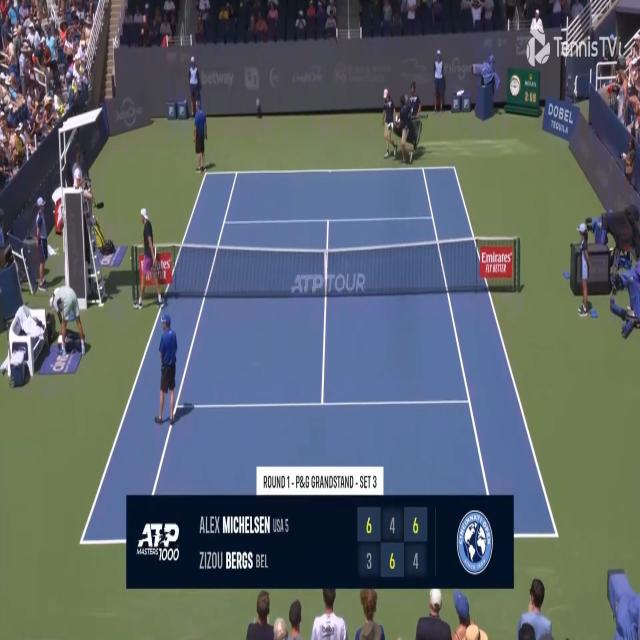tennis-player: (134, 202, 165, 314), (48, 279, 88, 359)
